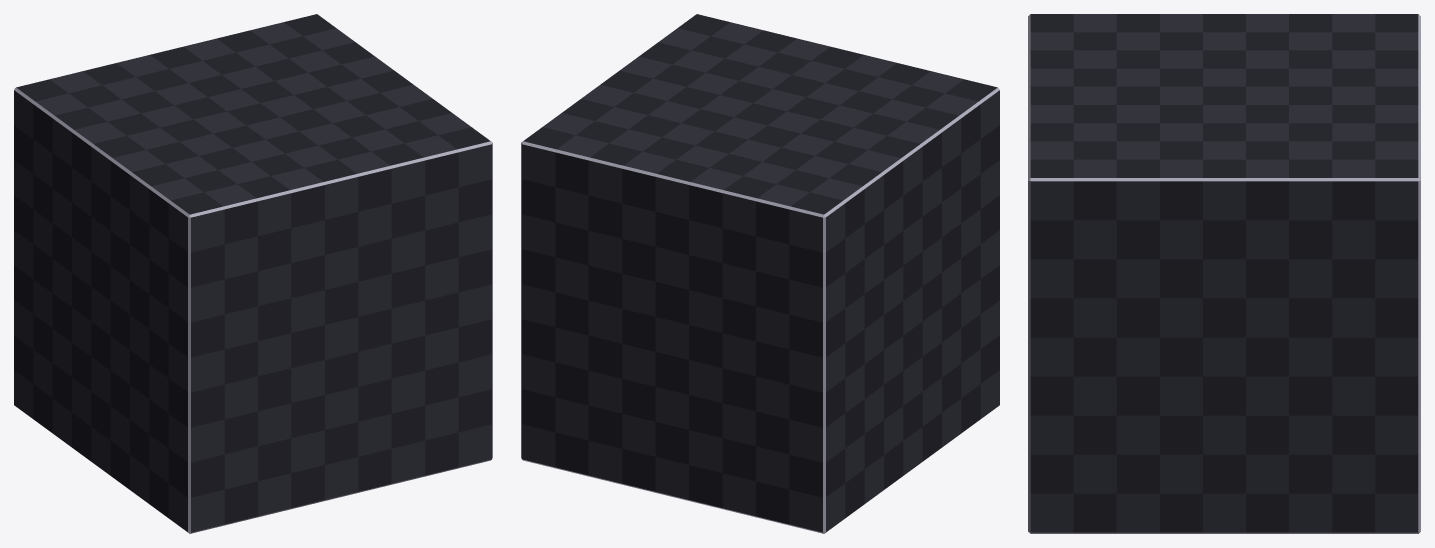
The model's file is PMP-M-Ground-Main-3x3x3-V1.fbx.
3 renders of one model, left to right at view 1: azimuth 30°, elevation 25°; view 2: azimuth 150°, elevation 25°; view 3: azimuth 270°, elevation 25°, orthographic. The views are drawn at different scales.
Visible parts, largest first — view 1: MONO_Terrain-A-3x3x3; view 2: MONO_Terrain-A-3x3x3; view 3: MONO_Terrain-A-3x3x3.
Part boxes in pixels (x1=…): MONO_Terrain-A-3x3x3: x1=14, y1=14, x2=492, y2=533; MONO_Terrain-A-3x3x3: x1=521, y1=14, x2=999, y2=533; MONO_Terrain-A-3x3x3: x1=1028, y1=14, x2=1420, y2=533.
Bounding box in the file's own units: 300 × 300 × 300.
